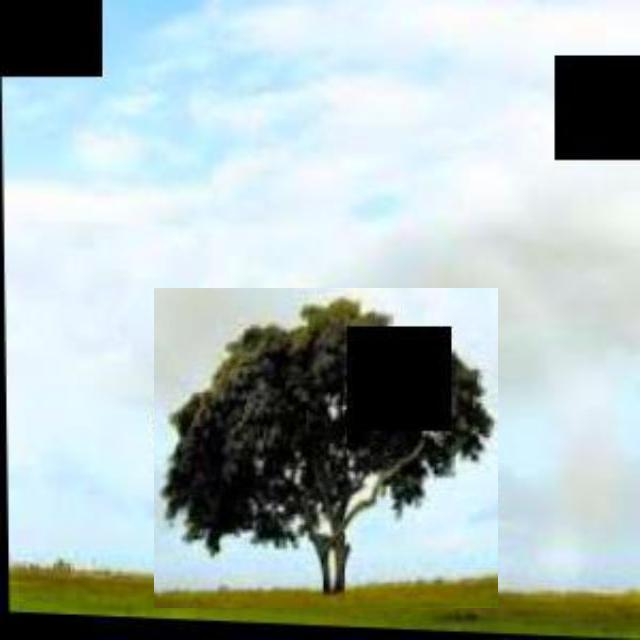tree: (154, 288, 498, 608)
